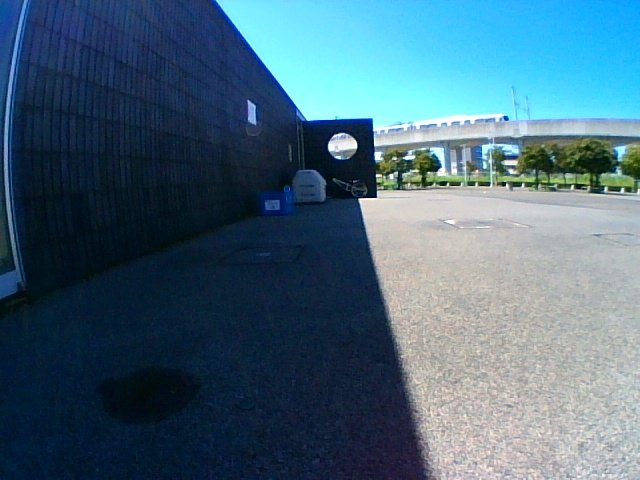blue_box: (261, 193, 293, 215)
tag: (266, 201, 279, 211)
